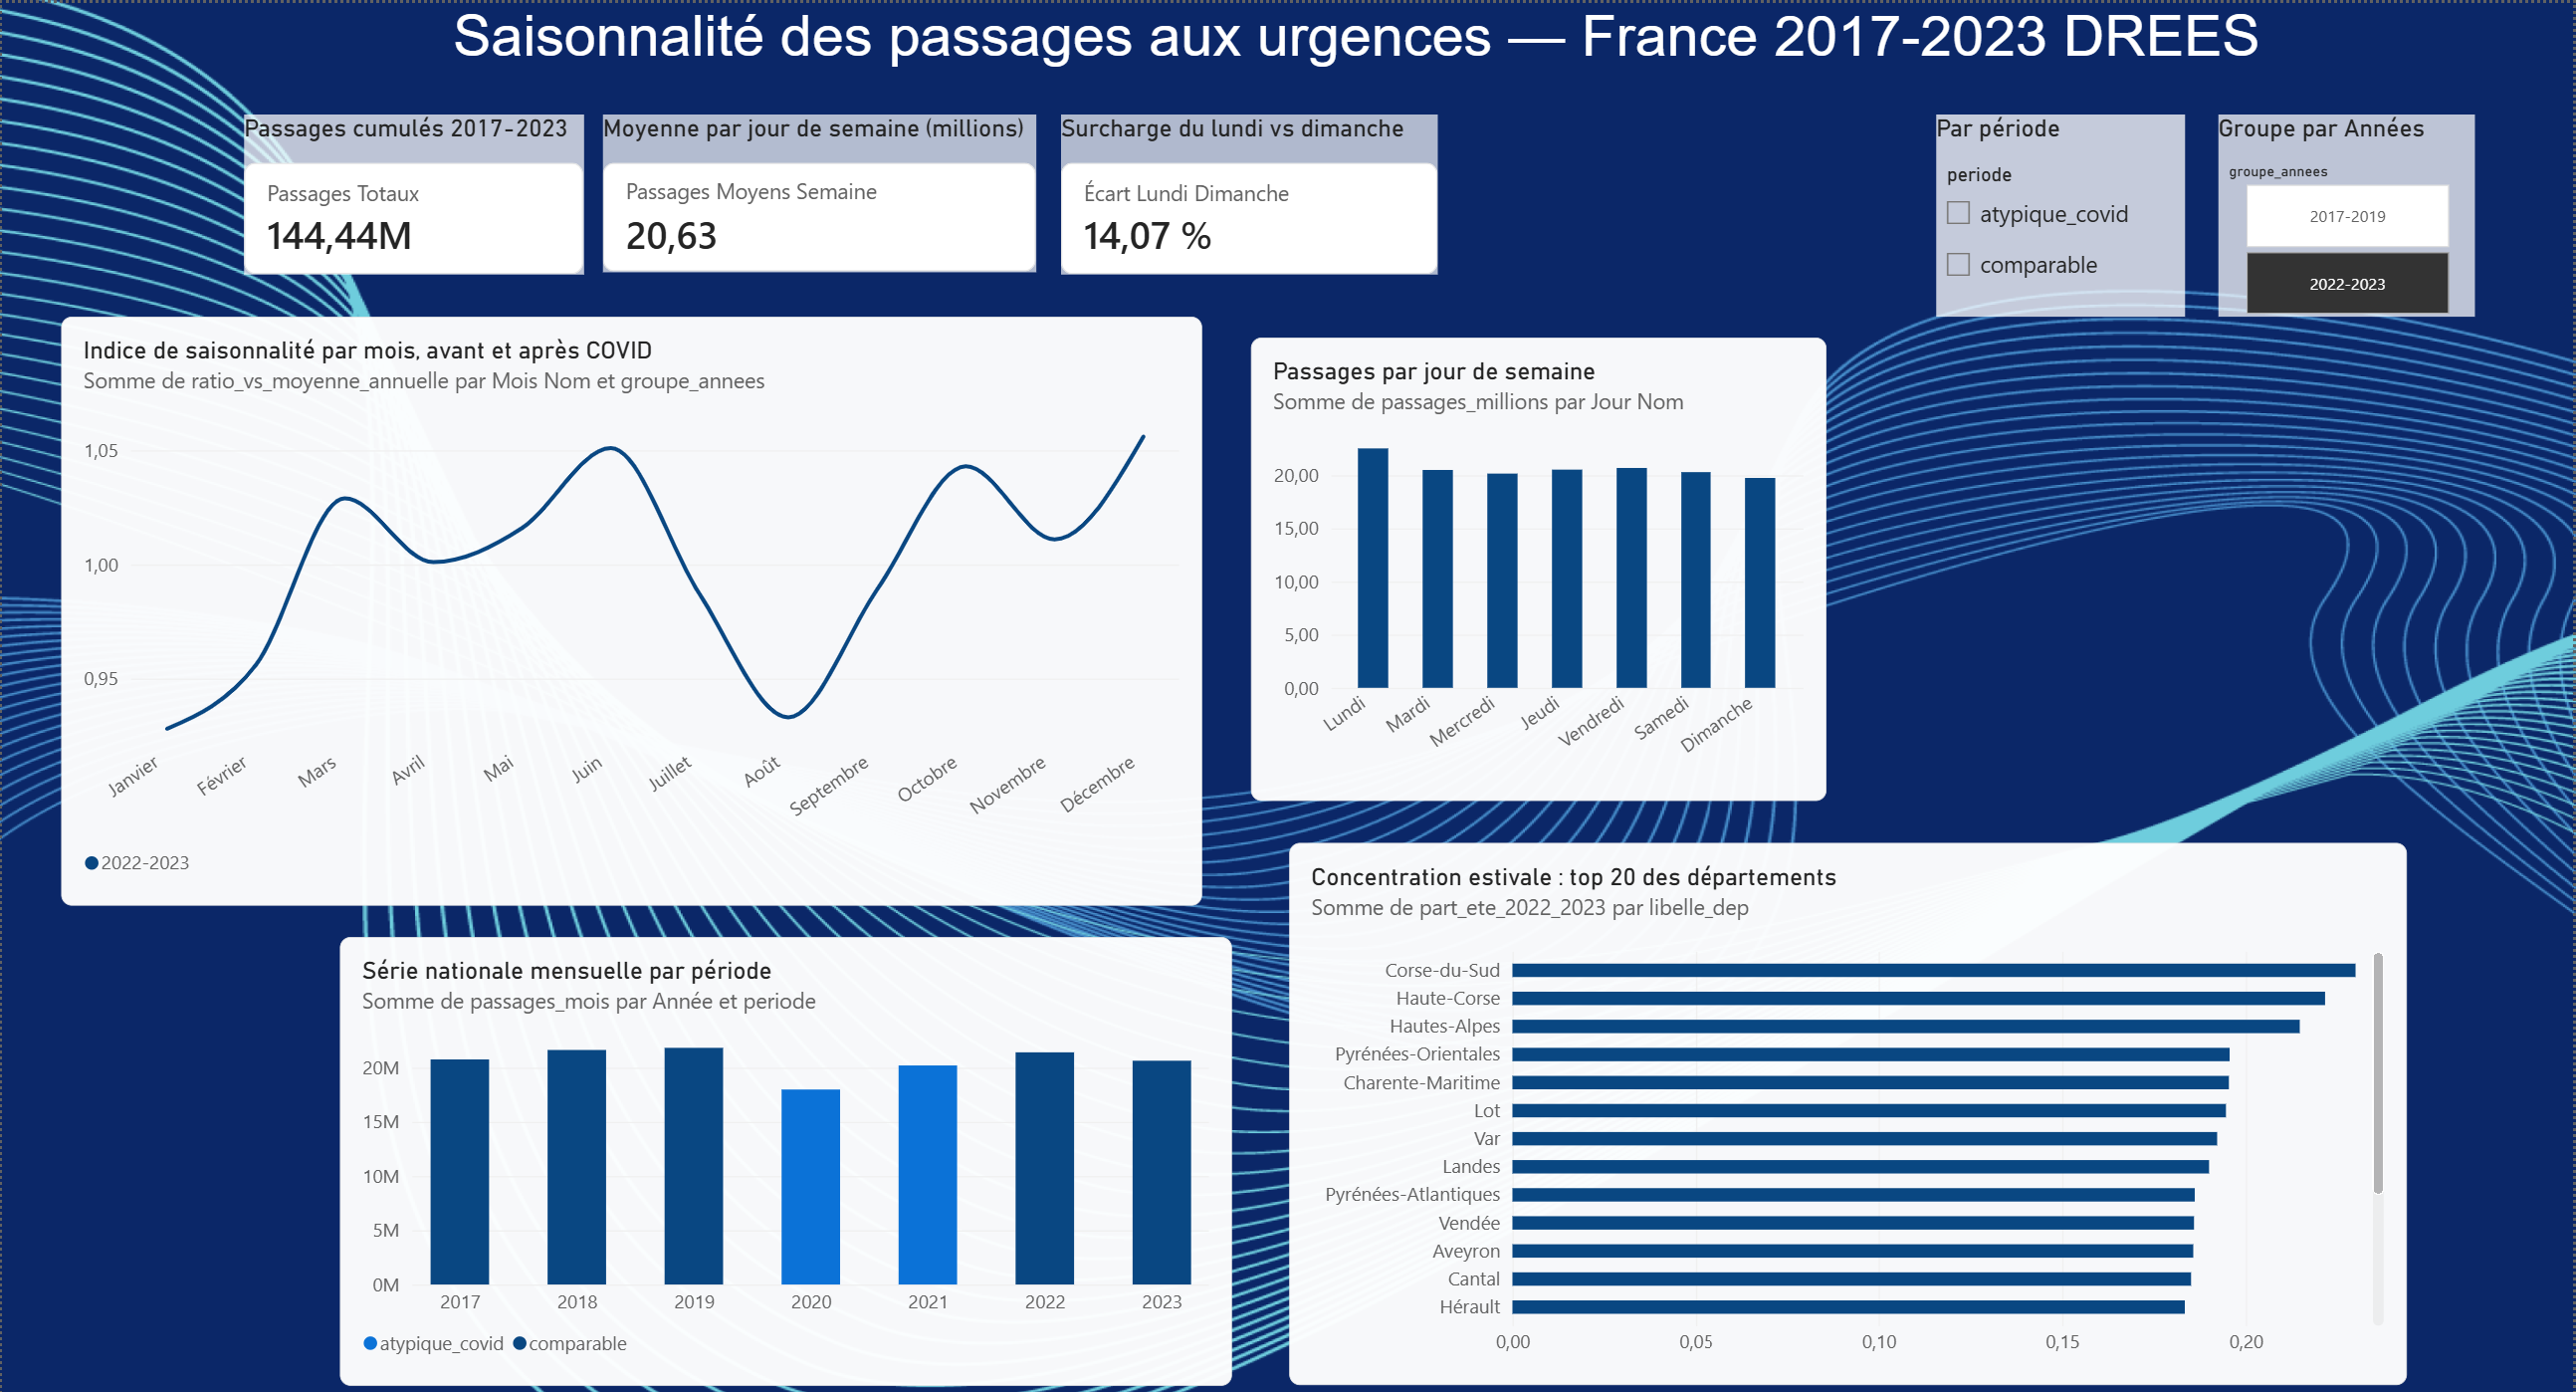

The page's visual inventory and layout, read from the dashboard file:
{"tool":"powerbi","page":{"name":"Saisonnalité des passages aux urgences","canvas":[1920,1080],"ordinal":0},"visuals":[{"type":"textbox","box":[336.6,0,1528.3,62.5],"z":1},{"type":"lineChart","title":"Indice de saisonnalité par mois, avant et après COVID","fields":{"Category":["RatioMensuel.Mois Nom"],"Series":["RatioMensuel.groupe_annees"],"Y":["Sum(RatioMensuel.ratio_vs_moyenne_annuelle)"]},"box":[44.1,233.6,851.5,439.5],"z":2},{"type":"columnChart","title":"Passages par jour de semaine","fields":{"Category":["JourSemaine.Jour Nom"],"Y":["Sum(JourSemaine.passages_millions)"]},"box":[932.4,250.1,430.3,345.7],"z":3},{"type":"columnChart","title":"Série nationale mensuelle par période","fields":{"Category":["SerieNationale.mois.Variation.Hiérarchie de dates.Année","SerieNationale.mois.Variation.Hiérarchie de dates.Trimestre","SerieNationale.mois.Variation.Hiérarchie de dates.Mois","SerieNationale.mois.Variation.Hiérarchie de dates.Jour"],"Series":["SerieNationale.periode"],"Y":["Sum(SerieNationale.passages_mois)"]},"box":[252,697,665.7,334.7],"z":4},{"type":"barChart","title":"Concentration estivale : top 20 des départements","fields":{"Category":["Top20Ete.libelle_dep"],"Y":["Sum(Top20Ete.part_ete_2022_2023)"]},"box":[960,627.1,834.9,404.6],"z":5},{"type":"cardVisual","title":"Passages cumulés 2017-2023","fields":{"Data":["CycleMensuel.Passages Totaux"]},"box":[180.2,82.8,253.8,119.5],"z":6},{"type":"cardVisual","title":"Moyenne par jour de semaine (millions)","fields":{"Data":["CycleMensuel.Passages Moyens Semaine"]},"box":[448.7,82.8,323.7,117.7],"z":7},{"type":"cardVisual","title":"Surcharge du lundi vs dimanche","fields":{"Data":["CycleMensuel.Écart Lundi Dimanche"]},"box":[790.8,82.8,281.4,119.5],"z":8},{"type":"slicer","title":"Par période","fields":{"Values":["SerieNationale.periode"]},"box":[1443.7,82.8,185.7,150.8],"z":9},{"type":"slicer","title":"Groupe par Années","fields":{"Values":["RatioMensuel.groupe_annees"]},"box":[1655.2,82.8,191.3,150.8],"z":10}]}

Visuals, with their boxes on the page's 1920x1080 design canvas (x1, y1, x2, y2). These are canvas units, not pixel positions in the 2576x1392 screenshot, which may show the page scaled, cropped or inside an application window:
textbox: [337, 0, 1865, 62]
"Indice de saisonnalité par mois, avant et après COVID" lineChart: [44, 234, 896, 673]
"Passages par jour de semaine" columnChart: [932, 250, 1363, 596]
"Série nationale mensuelle par période" columnChart: [252, 697, 918, 1032]
"Concentration estivale : top 20 des départements" barChart: [960, 627, 1795, 1032]
"Passages cumulés 2017-2023" cardVisual: [180, 83, 434, 202]
"Moyenne par jour de semaine (millions)" cardVisual: [449, 83, 772, 200]
"Surcharge du lundi vs dimanche" cardVisual: [791, 83, 1072, 202]
"Par période" slicer: [1444, 83, 1629, 234]
"Groupe par Années" slicer: [1655, 83, 1846, 234]
